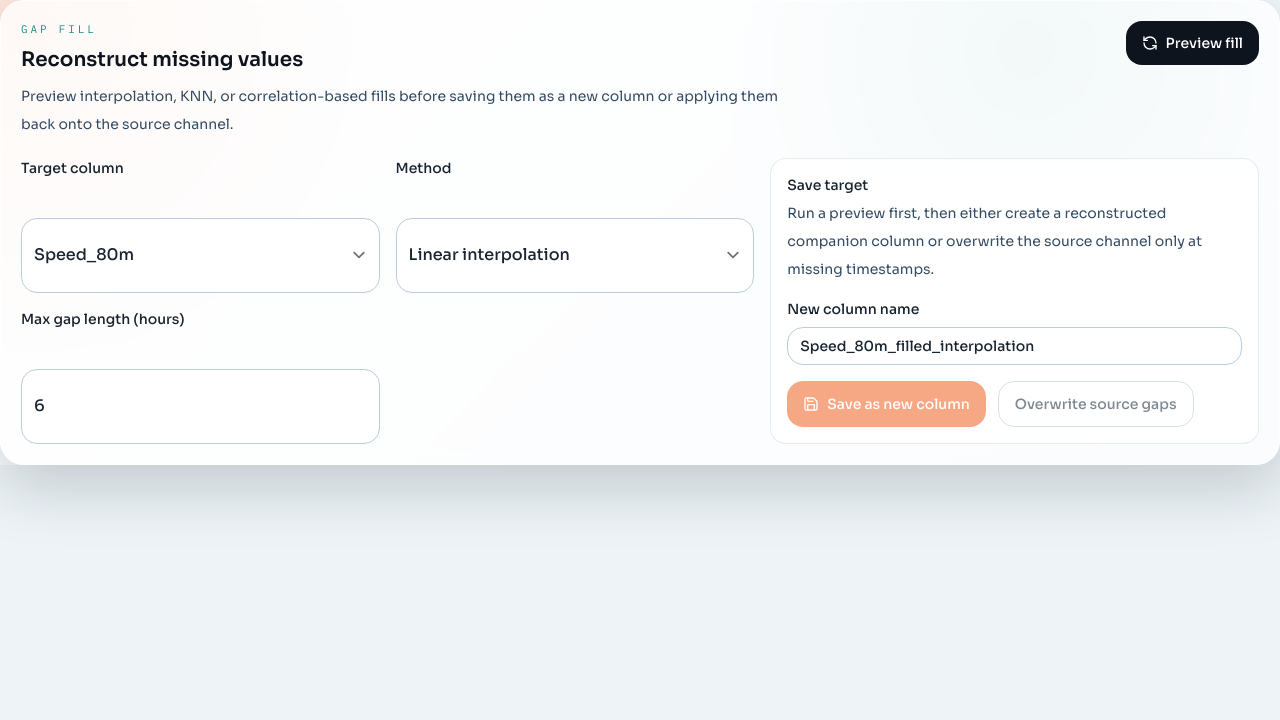
runs preview with interpolation settings
Click the button "Preview fill" at (1192, 43), box [1126,21,1259,65]
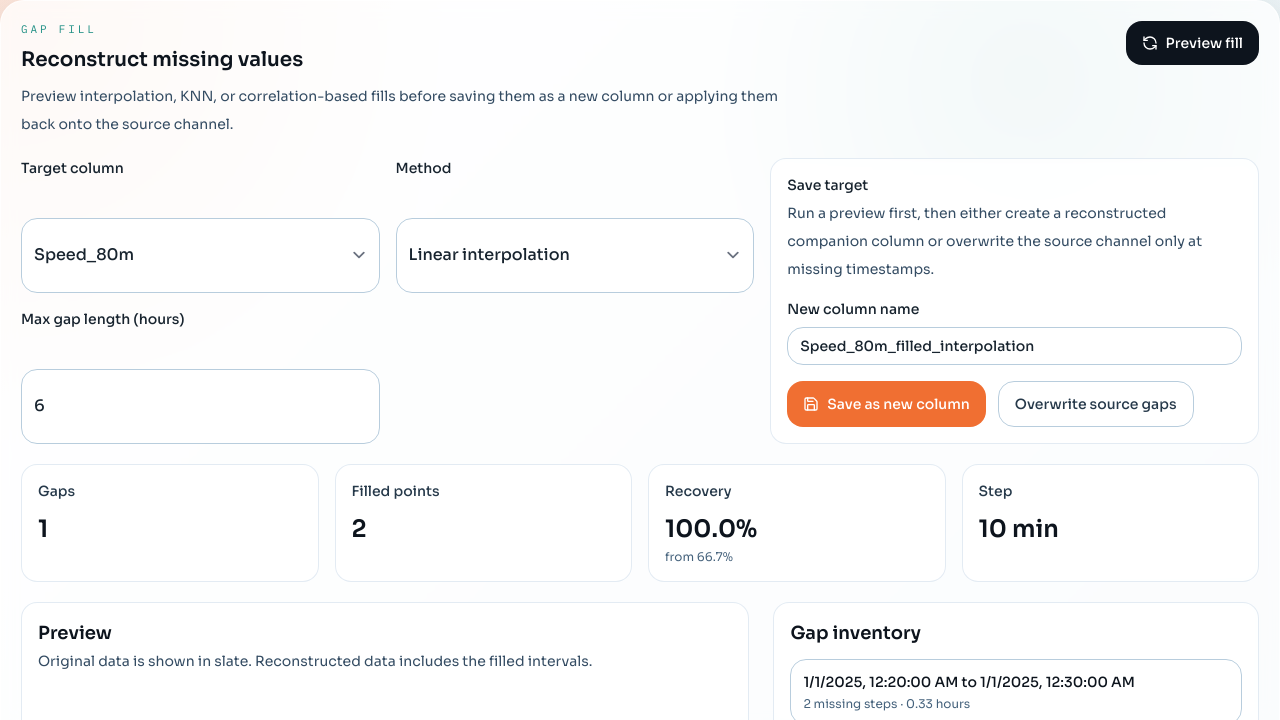
Check: the heading "Gap inventory" is shown, box [790,622,921,644]
Check: the text "Filled points" is shown, box [352,482,440,500]
